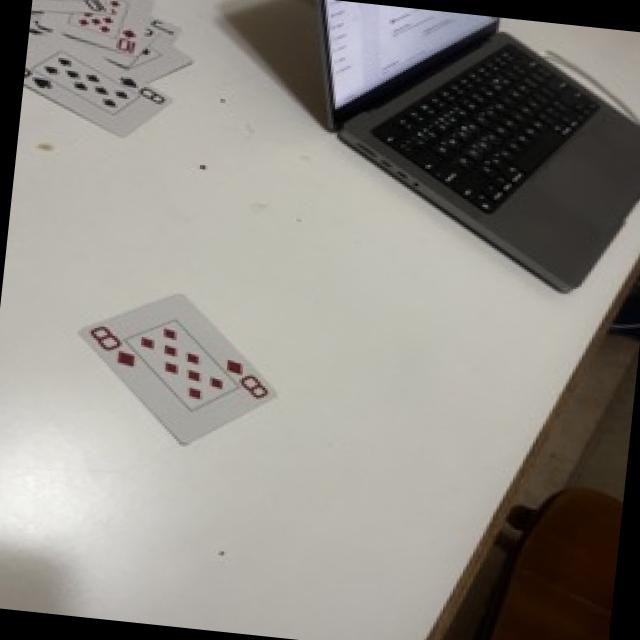8 of diamonds: (81, 295, 275, 443)
